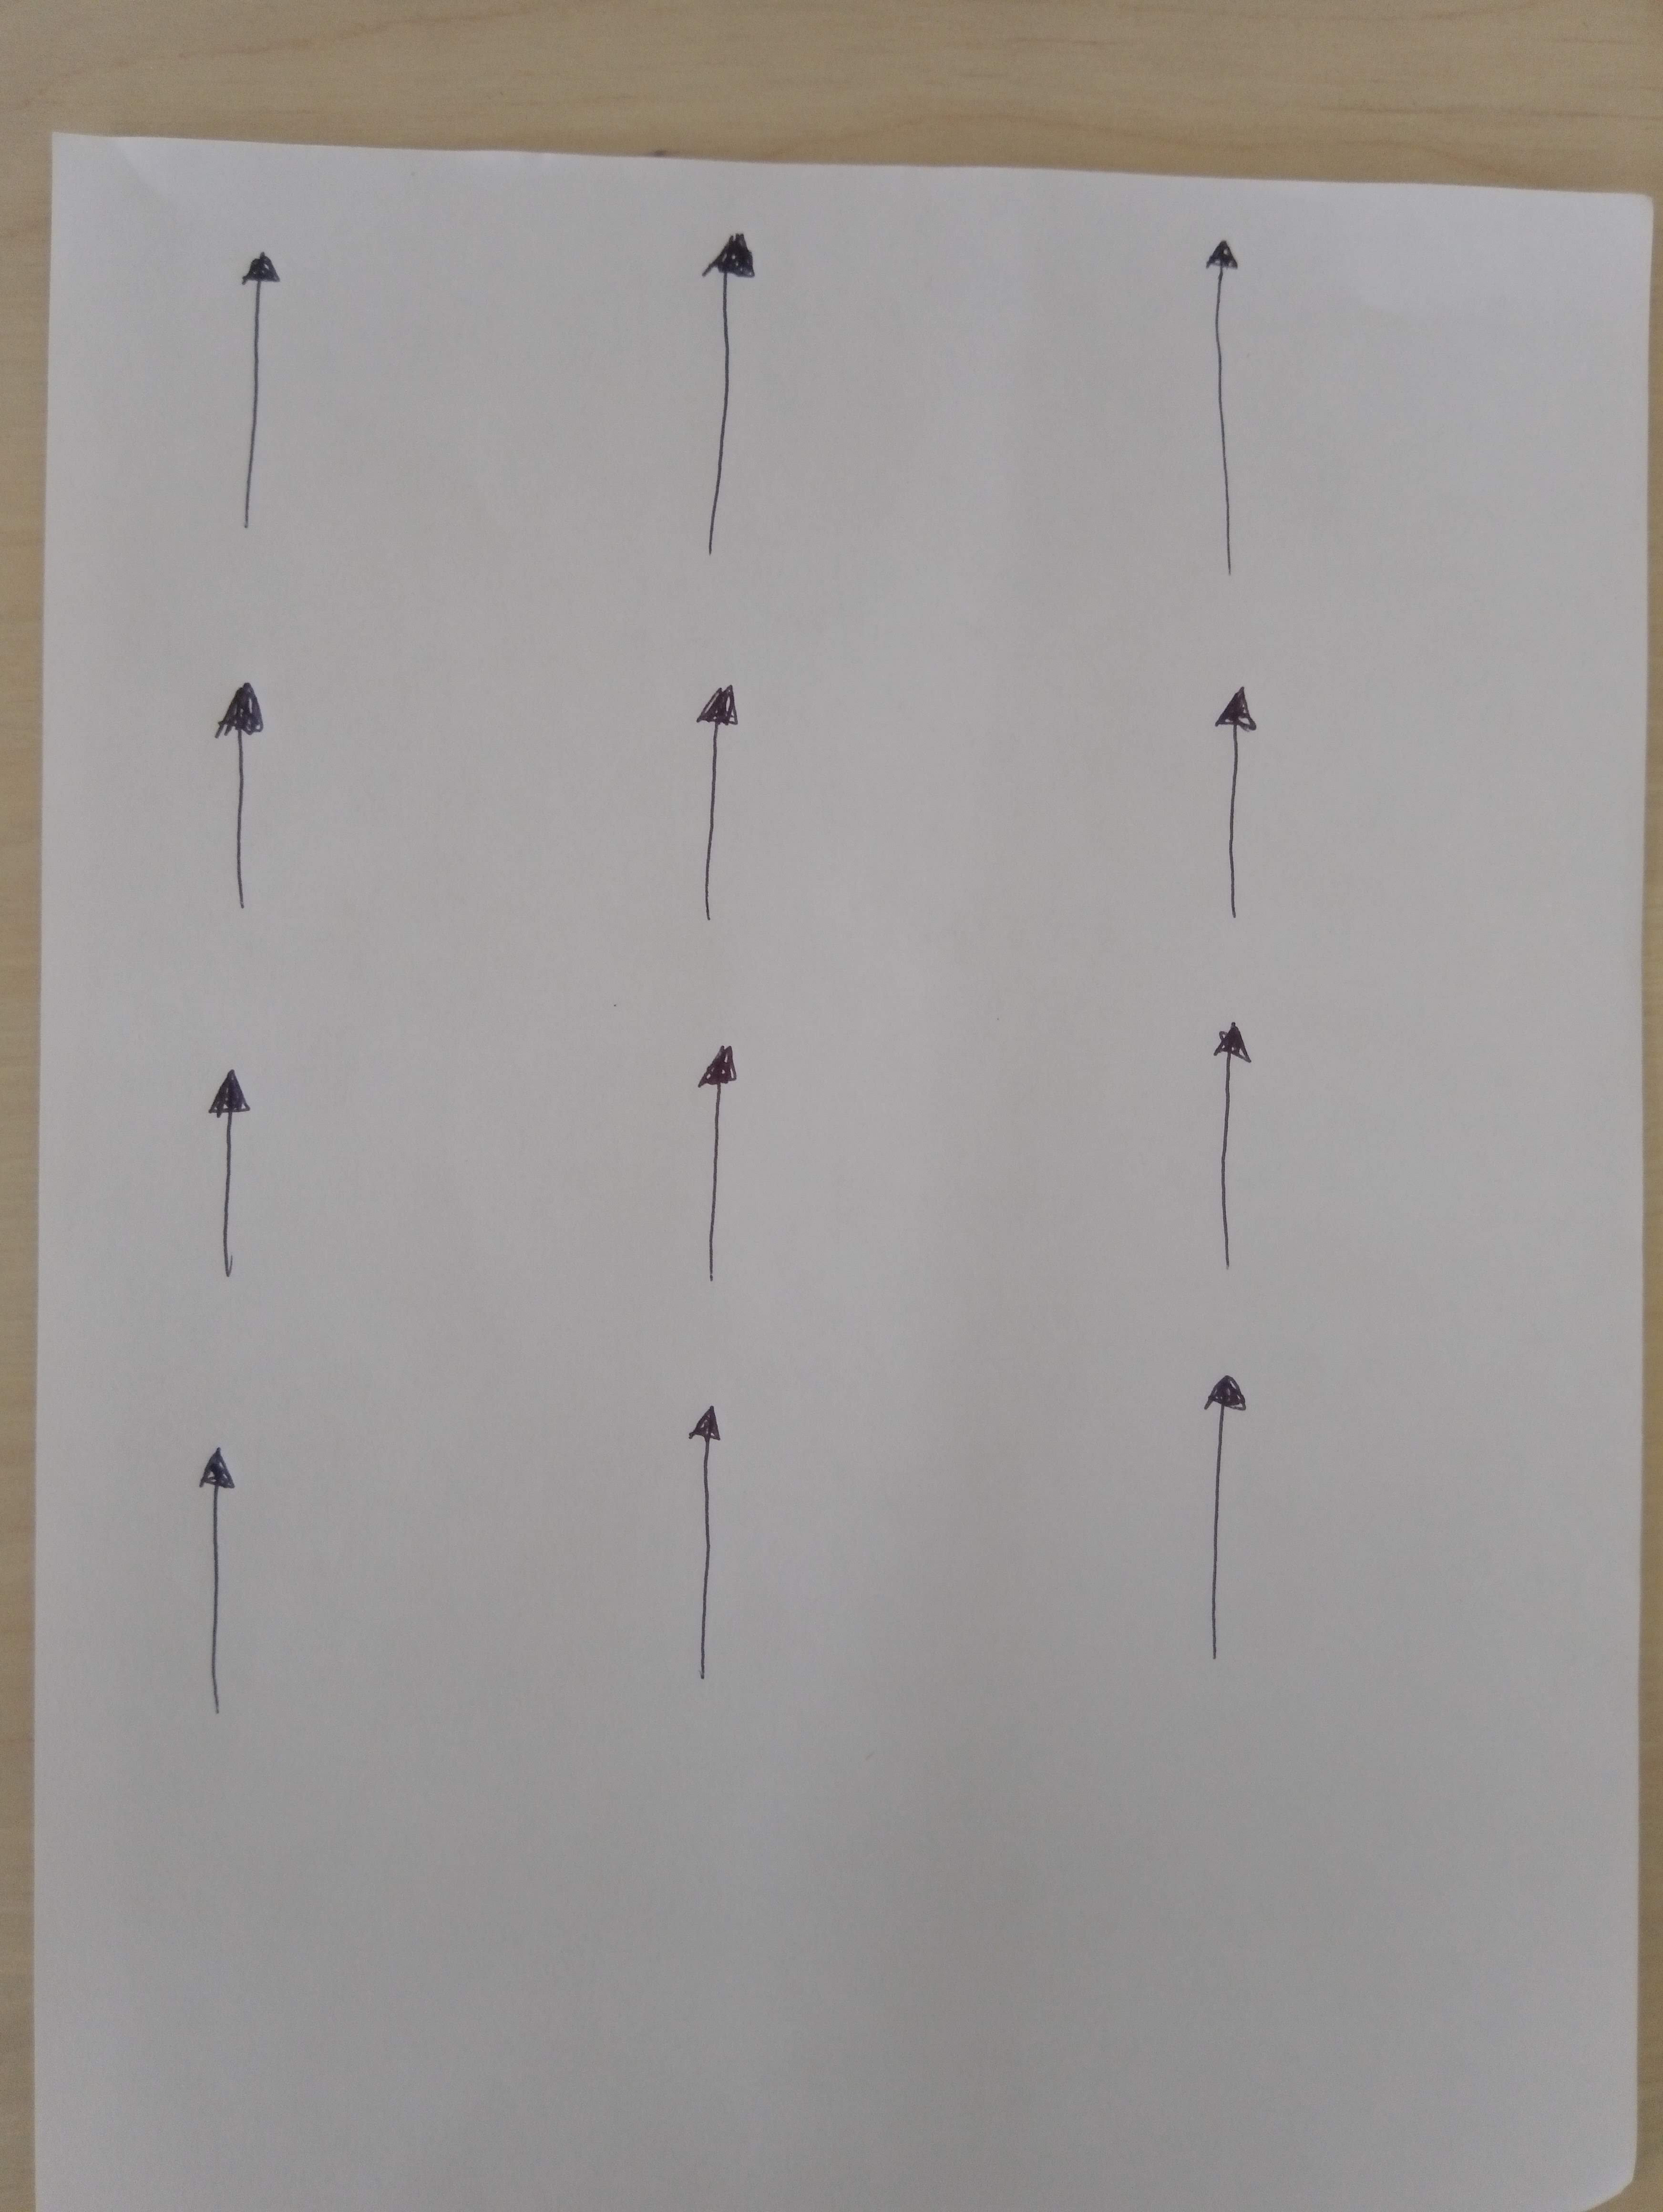arrow_line_up: (681, 220, 786, 613), (653, 1388, 774, 1693), (1188, 1370, 1317, 1652), (1193, 236, 1273, 629), (199, 213, 300, 512), (660, 658, 762, 946), (673, 1046, 781, 1290), (196, 658, 293, 915), (1176, 1020, 1286, 1243), (169, 1423, 250, 1700), (185, 1061, 274, 1290), (1200, 670, 1282, 906)
